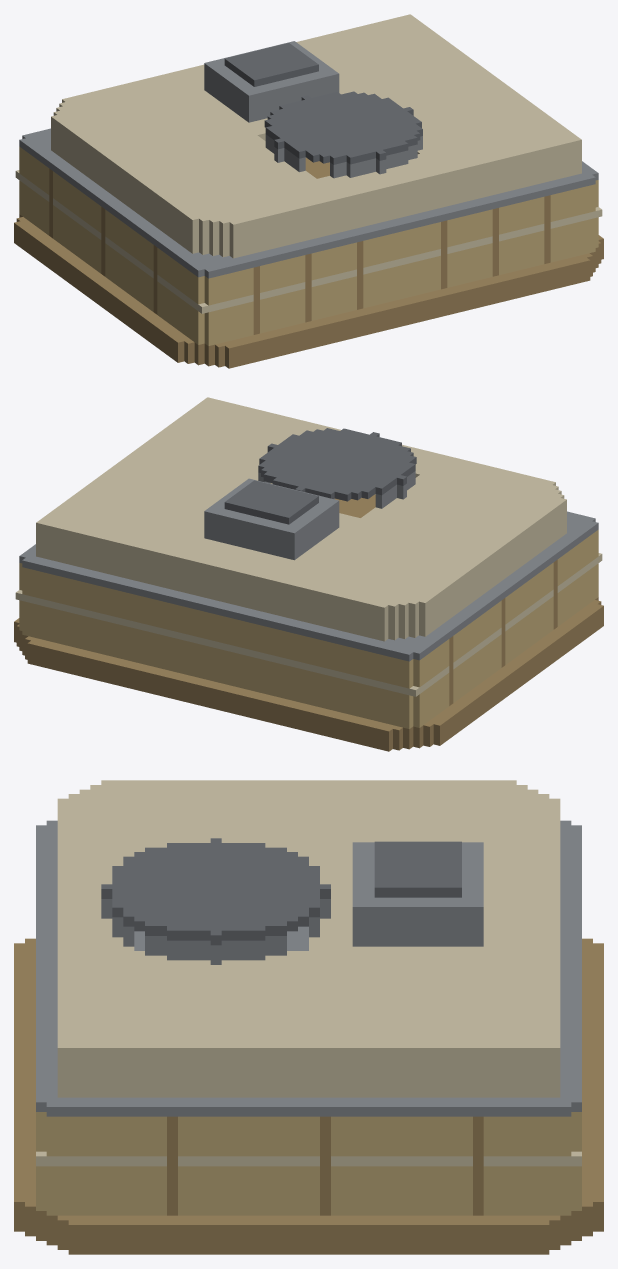
Rendered from pedestal.glb.
3 renders of one model, top to bottom at view 1: azimuth 30°, elevation 25°; view 2: azimuth 150°, elevation 25°; view 3: azimuth 270°, elevation 25°, orthographic. The views are drawn at different scales.
Bounding box in the file's own units: 66 × 24 × 54.
